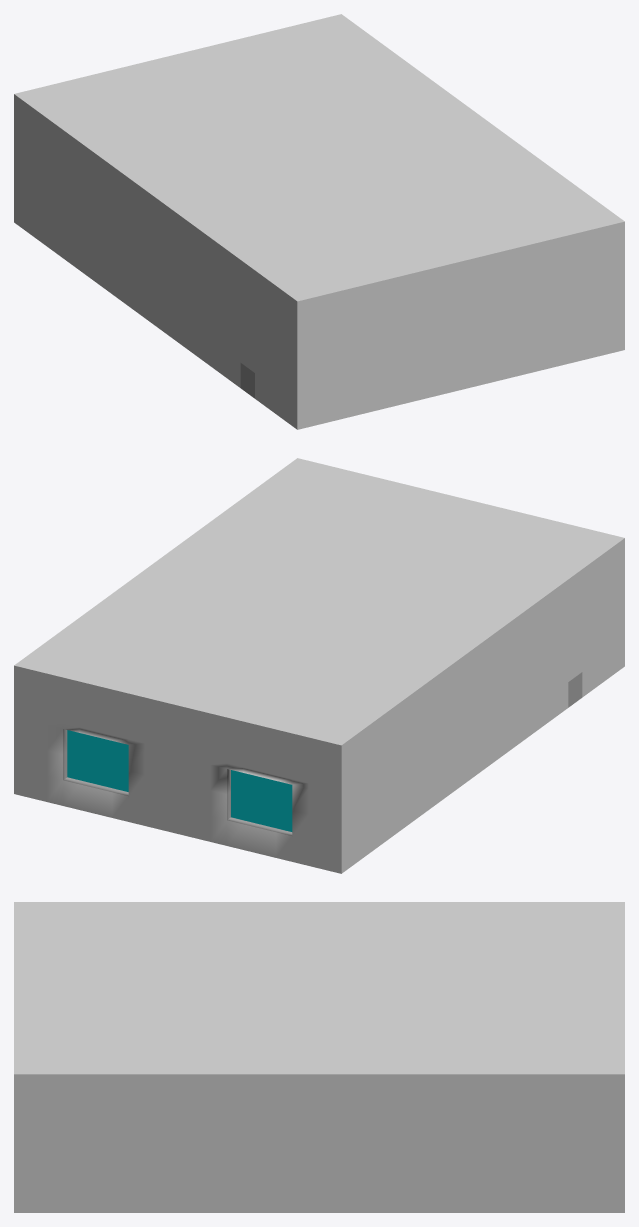
The model's file is Raum.fbx.
The picture shows the model from 3 angles, top to bottom: view 1: azimuth 30°, elevation 25°; view 2: azimuth 150°, elevation 25°; view 3: azimuth 270°, elevation 25°; orthographic projection. The views are drawn at different scales.
Parts seen in each view (by area): view 1: pPlane2; view 2: pPlane2; view 3: pPlane2.
Part boxes in pixels (left/top/right/bottom): pPlane2: left=14, top=14, right=624, bottom=429; pPlane2: left=14, top=458, right=624, bottom=873; pPlane2: left=14, top=902, right=624, bottom=1212.
Bounding box in the file's own units: 13.34 × 5 × 20.
